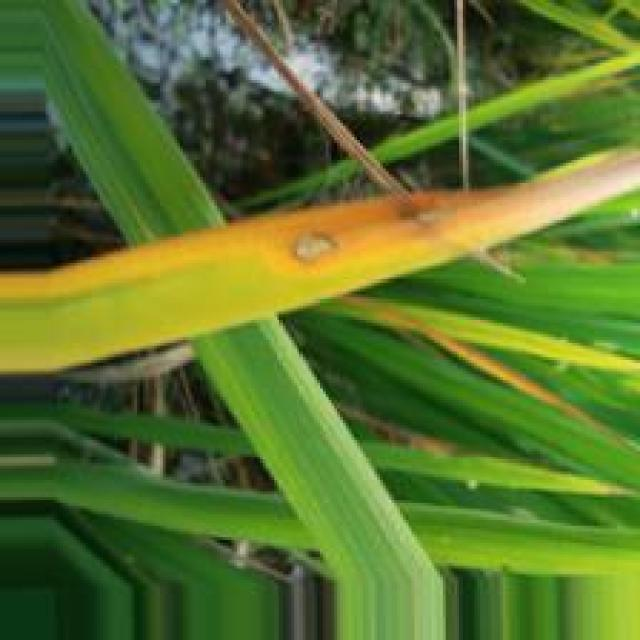Rice Tungro: (388, 195, 456, 236), (283, 228, 343, 272)
